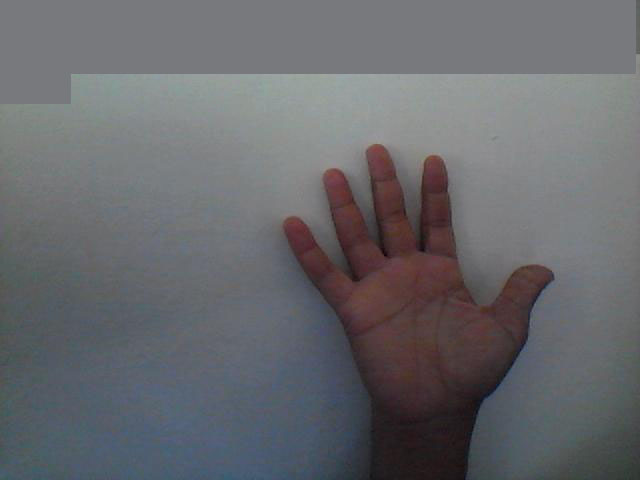hand: (274, 132, 563, 399)
